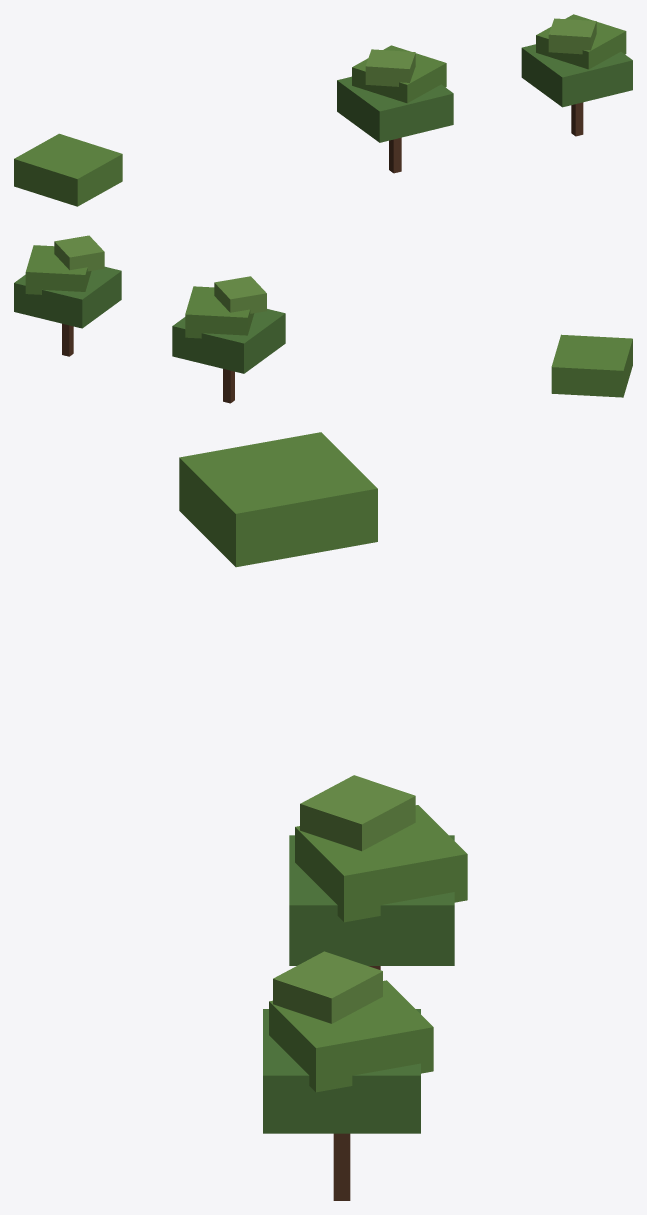
The model's file is structure.glb.
3 views of the same model, one above another, from view 1: azimuth 30°, elevation 25°; view 2: azimuth 150°, elevation 25°; view 3: azimuth 270°, elevation 25° (orthographic). The views are drawn at different scales.
Parts seen in each view (by area): view 1: Box1, Box3, Box7, Box4, Box8, Box5, Box9, Box2, Box6; view 2: Box1, Box3, Box7, Box4, Box8, Box5, Box9, Box2, Box6; view 3: Box1, Box4, Box3, Box8, Box7, Box5, Box9, Box6.
Part boxes in pixels (x1=…): Box1: x1=14, y1=133, x2=122, y2=206; Box3: x1=337, y1=76, x2=453, y2=142; Box7: x1=521, y1=44, x2=632, y2=107; Box4: x1=352, y1=45, x2=446, y2=103; Box8: x1=536, y1=14, x2=626, y2=69; Box5: x1=365, y1=49, x2=415, y2=86; Box9: x1=548, y1=18, x2=596, y2=54; Box2: x1=389, y1=137, x2=401, y2=173; Box6: x1=571, y1=102, x2=583, y2=136; Box1: x1=551, y1=334, x2=632, y2=397; Box3: x1=172, y1=309, x2=285, y2=373; Box7: x1=14, y1=266, x2=121, y2=328; Box4: x1=185, y1=286, x2=254, y2=338; Box8: x1=25, y1=245, x2=91, y2=294; Box5: x1=214, y1=276, x2=266, y2=313; Box9: x1=54, y1=235, x2=104, y2=271; Box2: x1=223, y1=369, x2=234, y2=403; Box6: x1=62, y1=323, x2=73, y2=356; Box1: x1=179, y1=432, x2=377, y2=567; Box4: x1=295, y1=805, x2=467, y2=922; Box3: x1=289, y1=835, x2=454, y2=965; Box8: x1=269, y1=980, x2=433, y2=1092; Box7: x1=263, y1=1009, x2=420, y2=1133; Box5: x1=300, y1=775, x2=415, y2=851; Box9: x1=273, y1=951, x2=382, y2=1023; Box6: x1=333, y1=1133, x2=350, y2=1200.
Size of the model in its own units: 29.28 by 5.39 by 6.18.
